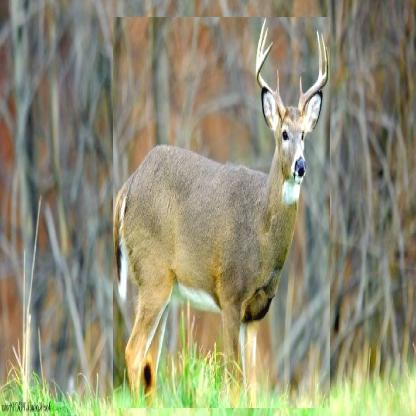Deer: (113, 17, 330, 408)
